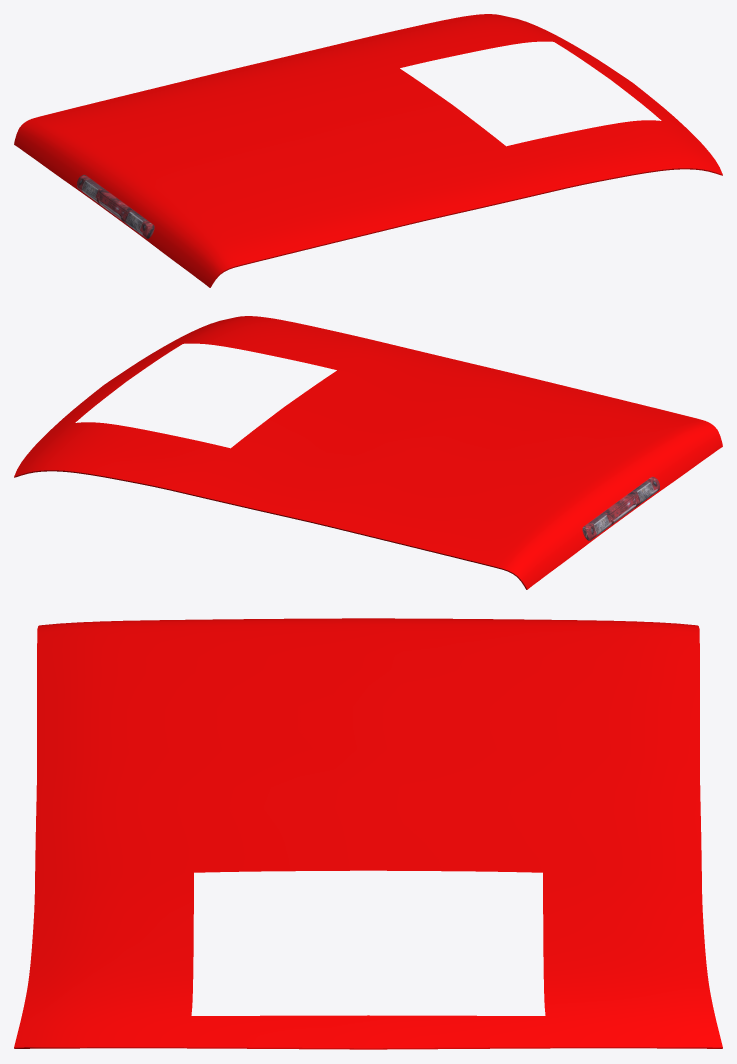
3 renders of one model, top to bottom at view 1: azimuth 30°, elevation 25°; view 2: azimuth 150°, elevation 25°; view 3: azimuth 270°, elevation 25°, orthographic. The views are drawn at different scales.
Visible parts, largest first — view 1: U805_4A_341B_C_U805_4A_341B_C_1_DaS, U805_4A_341B_C_U805_4A_341B_C_2_DTaSI, U805_4A_341B_C_3_N_U805_4A_341B_C, U805_4A_341B_C_U805_4A_341B_C_1_DaS_E; view 2: U805_4A_341B_C_U805_4A_341B_C_1_DaS, U805_4A_341B_C_U805_4A_341B_C_2_DTaSI, U805_4A_341B_C_3_N_U805_4A_341B_C, U805_4A_341B_C_U805_4A_341B_C_1_DaS_E; view 3: U805_4A_341B_C_U805_4A_341B_C_1_DaS, U805_4A_341B_C_U805_4A_341B_C_1_DaS_E.
Part boxes in pixels (left/top/right/bottom): U805_4A_341B_C_U805_4A_341B_C_1_DaS: left=14, top=14, right=722, bottom=287; U805_4A_341B_C_U805_4A_341B_C_2_DTaSI: left=77, top=175, right=154, bottom=238; U805_4A_341B_C_3_N_U805_4A_341B_C: left=77, top=175, right=154, bottom=238; U805_4A_341B_C_U805_4A_341B_C_1_DaS_E: left=209, top=168, right=722, bottom=287; U805_4A_341B_C_U805_4A_341B_C_1_DaS: left=14, top=316, right=722, bottom=589; U805_4A_341B_C_U805_4A_341B_C_2_DTaSI: left=582, top=477, right=659, bottom=540; U805_4A_341B_C_3_N_U805_4A_341B_C: left=582, top=477, right=659, bottom=540; U805_4A_341B_C_U805_4A_341B_C_1_DaS_E: left=14, top=470, right=527, bottom=589; U805_4A_341B_C_U805_4A_341B_C_1_DaS: left=14, top=618, right=722, bottom=1048; U805_4A_341B_C_U805_4A_341B_C_1_DaS_E: left=14, top=1047, right=722, bottom=1049.
Size of the model in its own units: 158 by 9.11 by 113.
